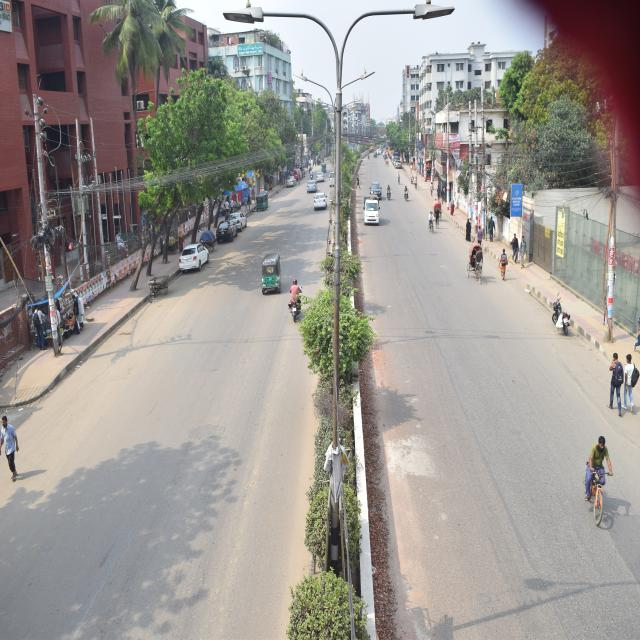car: (178, 232, 202, 270), (357, 196, 379, 230), (229, 209, 251, 242), (314, 189, 330, 220), (213, 222, 233, 246), (313, 160, 327, 189), (369, 180, 385, 203), (303, 175, 320, 193)
motorbike: (540, 290, 578, 345), (288, 266, 306, 330), (384, 181, 392, 203)
